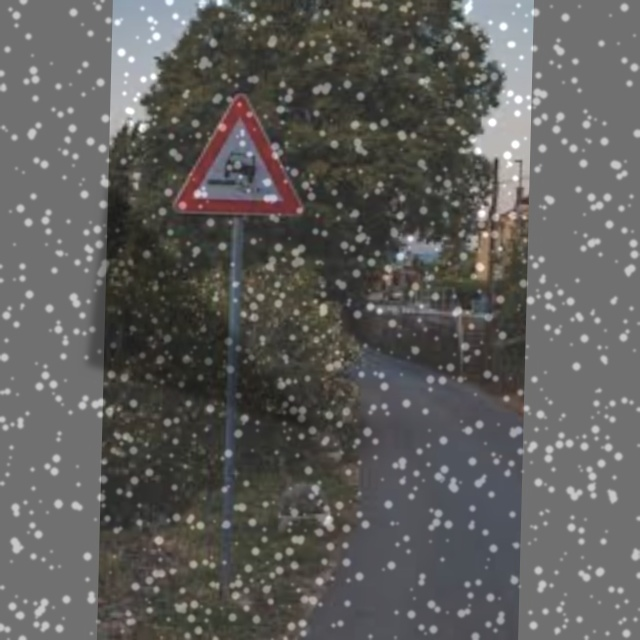Loose_Gravel: (174, 91, 304, 223)
